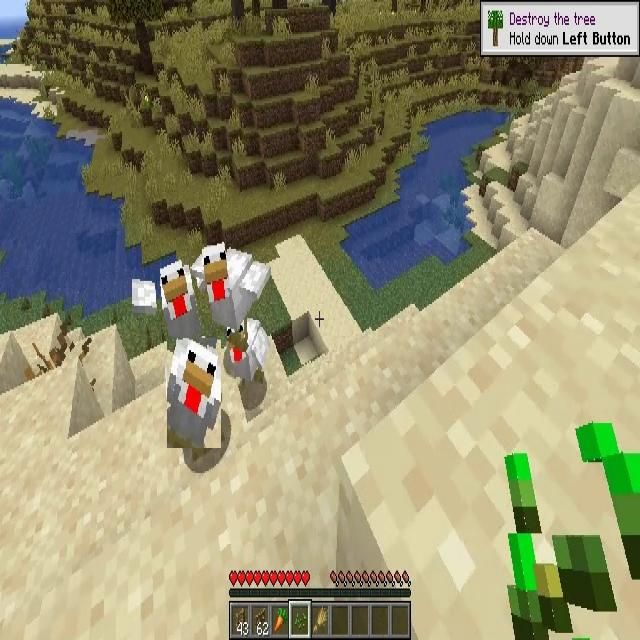duck: (192, 242, 268, 330), (167, 338, 221, 448), (142, 263, 204, 339), (224, 318, 270, 382)
